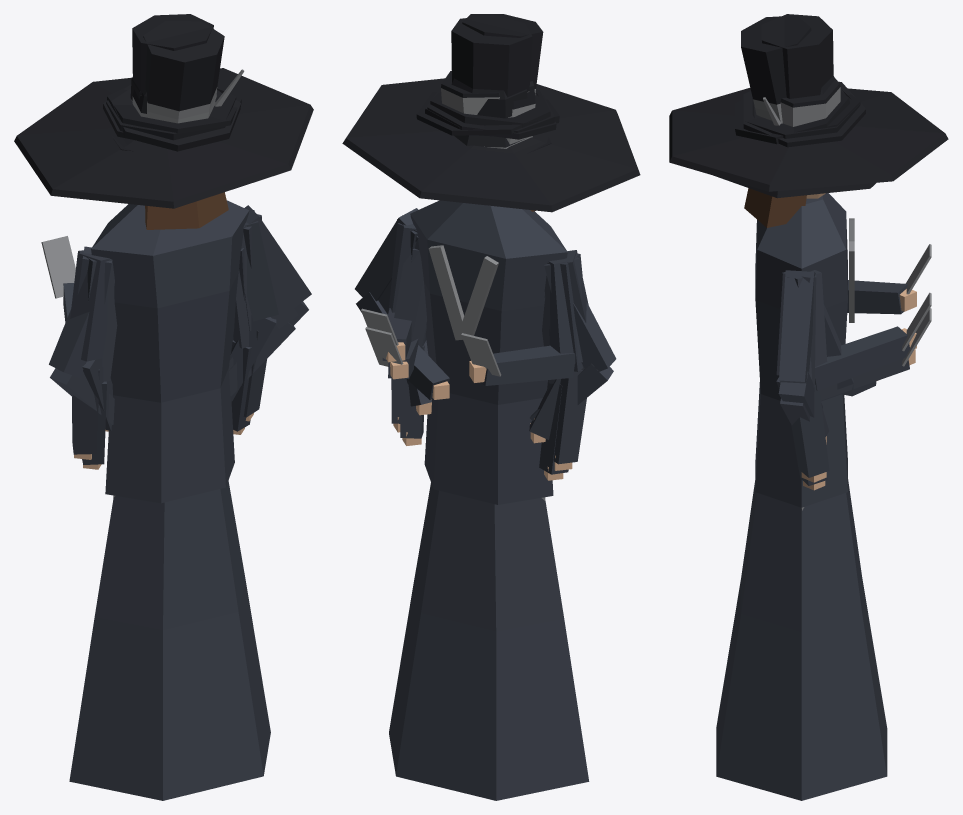
Rendered from crowd_set_4.glb.
3 renders of one model, left to right at view 1: azimuth 30°, elevation 25°; view 2: azimuth 150°, elevation 25°; view 3: azimuth 270°, elevation 25°, orthographic.
Visible parts, largest first — view 1: lady_05_wide.001, gent_00_top.002, lady_06_picture.001, gent_01_top.002, gent_03_bowler.001, gent_02_boater.001, lady_09_boater.001, gent_04_trilby.001; view 2: lady_05_wide.001, gent_00_top.002, lady_06_picture.001, gent_04_trilby.001, gent_02_boater.001, gent_01_top.002, lady_08_cloche.002, gent_03_bowler.001, lady_09_boater.001, lady_07_fascinator.001; view 3: lady_05_wide.001, gent_00_top.002, lady_06_picture.001, gent_01_top.002, gent_02_boater.001, gent_04_trilby.001, lady_07_fascinator.001, lady_08_cloche.002, gent_03_bowler.001.
Part boxes in pixels (left/top/right/bottom): lady_05_wide.001: left=69, top=192, right=270, bottom=800; gent_00_top.002: left=72, top=14, right=266, bottom=503; lady_06_picture.001: left=14, top=68, right=313, bottom=395; gent_01_top.002: left=111, top=21, right=261, bottom=269; gent_03_bowler.001: left=70, top=77, right=278, bottom=431; gent_02_boater.001: left=107, top=87, right=311, bottom=369; lady_09_boater.001: left=49, top=135, right=133, bottom=424; gent_04_trilby.001: left=41, top=84, right=147, bottom=322; lady_05_wide.001: left=389, top=210, right=589, bottom=800; gent_00_top.002: left=388, top=15, right=586, bottom=504; lady_06_picture.001: left=342, top=78, right=640, bottom=314; gent_04_trilby.001: left=427, top=81, right=582, bottom=385; gent_02_boater.001: left=355, top=70, right=550, bottom=385; gent_01_top.002: left=361, top=14, right=559, bottom=362; lady_08_cloche.002: left=394, top=135, right=532, bottom=399; gent_03_bowler.001: left=397, top=78, right=588, bottom=443; lady_09_boater.001: left=528, top=137, right=616, bottom=420; lady_07_fascinator.001: left=365, top=248, right=426, bottom=379; lady_05_wide.001: left=715, top=176, right=887, bottom=800; gent_00_top.002: left=745, top=14, right=859, bottom=510; lady_06_picture.001: left=669, top=88, right=948, bottom=425; gent_01_top.002: left=735, top=15, right=931, bottom=390; gent_02_boater.001: left=743, top=78, right=865, bottom=417; gent_04_trilby.001: left=827, top=94, right=931, bottom=314; lady_07_fascinator.001: left=763, top=97, right=931, bottom=400; lady_08_cloche.002: left=823, top=304, right=877, bottom=396; gent_03_bowler.001: left=752, top=76, right=850, bottom=444.
Bounding box in the file's own units: 0.7487 × 1.95 × 0.679.
